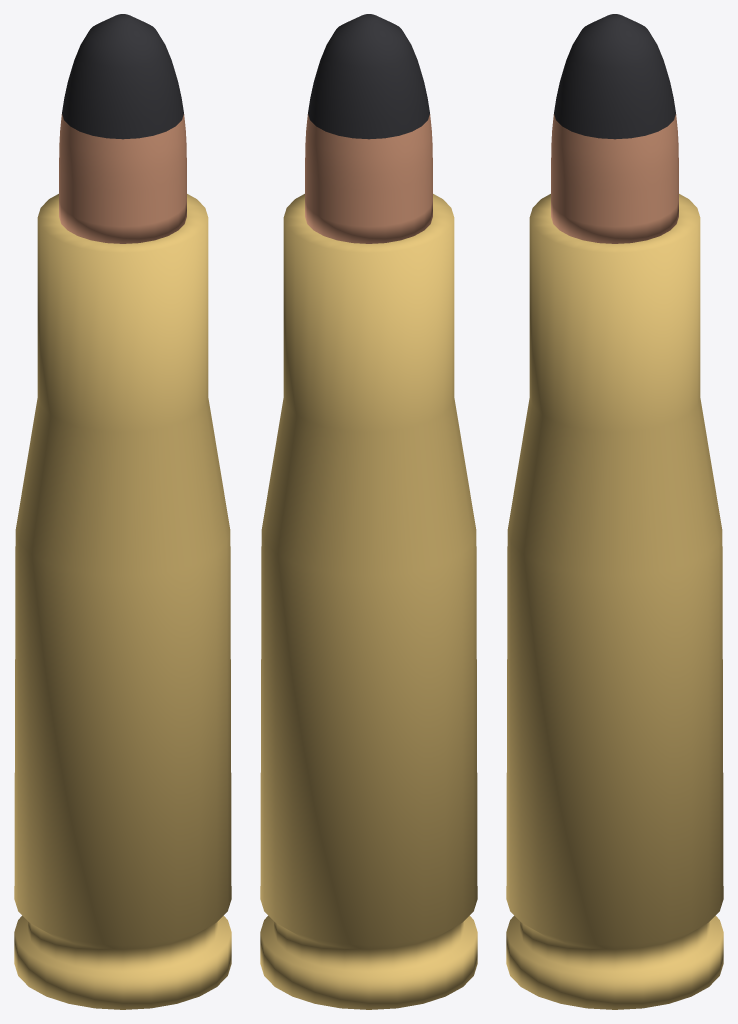
3 views of the same model, side by side, from view 1: azimuth 30°, elevation 25°; view 2: azimuth 150°, elevation 25°; view 3: azimuth 270°, elevation 25° (orthographic).
Visible parts, largest first — view 1: vaina, bala_cuerpo, punta; view 2: vaina, bala_cuerpo, punta; view 3: vaina, bala_cuerpo, punta.
Boxes of the visible parts, <box> form: vaina: <box>14,194,231,1009</box>; bala_cuerpo: <box>59,114,186,243</box>; punta: <box>62,14,183,139</box>; vaina: <box>260,194,477,1009</box>; bala_cuerpo: <box>305,114,432,243</box>; punta: <box>308,14,429,139</box>; vaina: <box>506,194,723,1009</box>; bala_cuerpo: <box>551,114,678,243</box>; punta: <box>554,14,675,139</box>.
Bounding box in the file's own units: 0.0079 × 0.038 × 0.0079.
